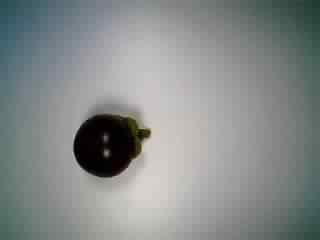mangosteen: (70, 109, 154, 182)
